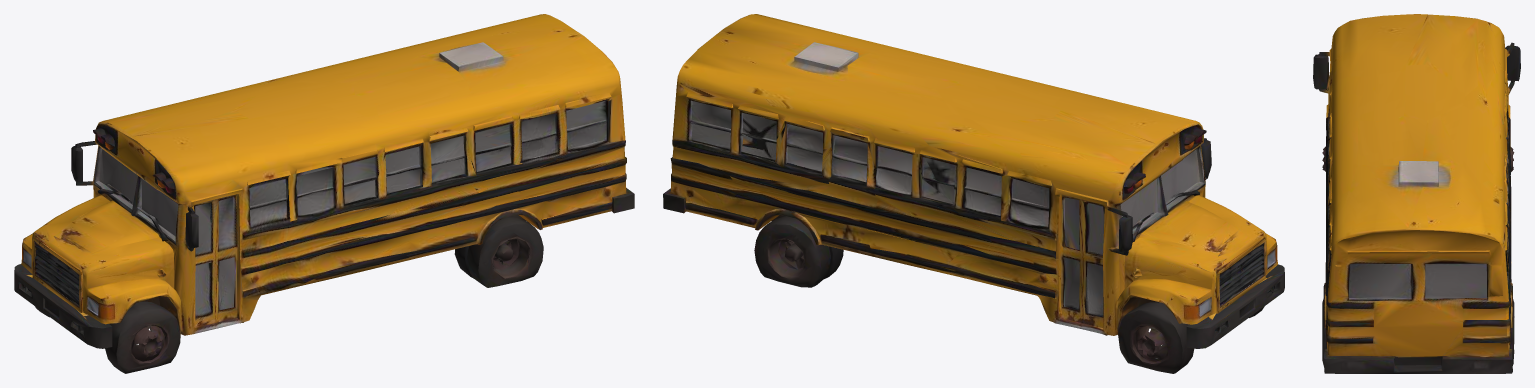
The model's file is bus_school_idle.glb.
3 renders of one model, left to right at view 1: azimuth 30°, elevation 25°; view 2: azimuth 150°, elevation 25°; view 3: azimuth 270°, elevation 25°, orthographic.
Visible parts, largest first — view 1: tripo_node_a21d9e33-aab7-4e9f-9425-4f1fa6423dc3; view 2: tripo_node_a21d9e33-aab7-4e9f-9425-4f1fa6423dc3; view 3: tripo_node_a21d9e33-aab7-4e9f-9425-4f1fa6423dc3.
Part boxes in pixels (<box>): tripo_node_a21d9e33-aab7-4e9f-9425-4f1fa6423dc3: <box>14,14,634,373</box>; tripo_node_a21d9e33-aab7-4e9f-9425-4f1fa6423dc3: <box>663,14,1284,373</box>; tripo_node_a21d9e33-aab7-4e9f-9425-4f1fa6423dc3: <box>1313,14,1520,373</box>.
Size of the model in its own units: 11 by 3.8 by 3.72.
1 material, 1 textured.
